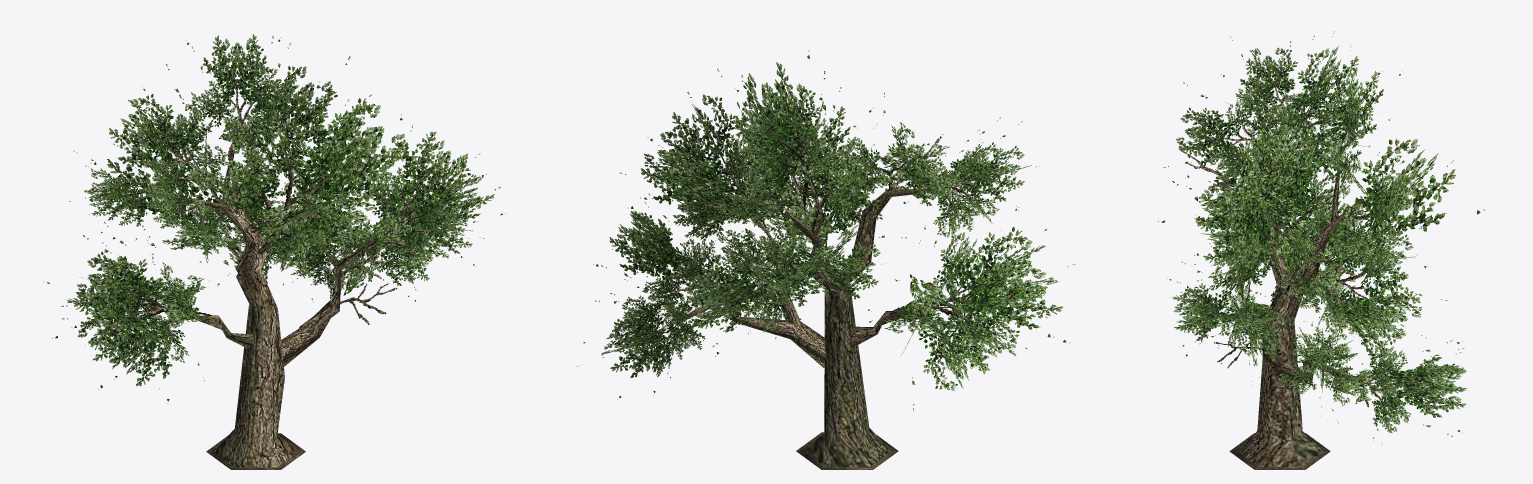
Rendered from tree_v3.glb.
The picture shows the model from 3 angles, left to right: view 1: azimuth 30°, elevation 25°; view 2: azimuth 150°, elevation 25°; view 3: azimuth 270°, elevation 25°; orthographic projection. The views are drawn at different scales.
Parts seen in each view (by area): view 1: tree_oak_new_top_e, tree_oak_new_e; view 2: tree_oak_new_top_e, tree_oak_new_e; view 3: tree_oak_new_top_e, tree_oak_new_e.
Part boxes in pixels (x1,y1,x2,y2): tree_oak_new_top_e: (43, 34, 505, 403); tree_oak_new_e: (125, 87, 432, 469); tree_oak_new_top_e: (577, 50, 1075, 410); tree_oak_new_e: (652, 129, 985, 469); tree_oak_new_top_e: (1158, 31, 1484, 444); tree_oak_new_e: (1178, 86, 1407, 469).
Size of the model in its own units: 5.79 by 4.73 by 4.09.
Materials: 2 (2 with a texture image).
